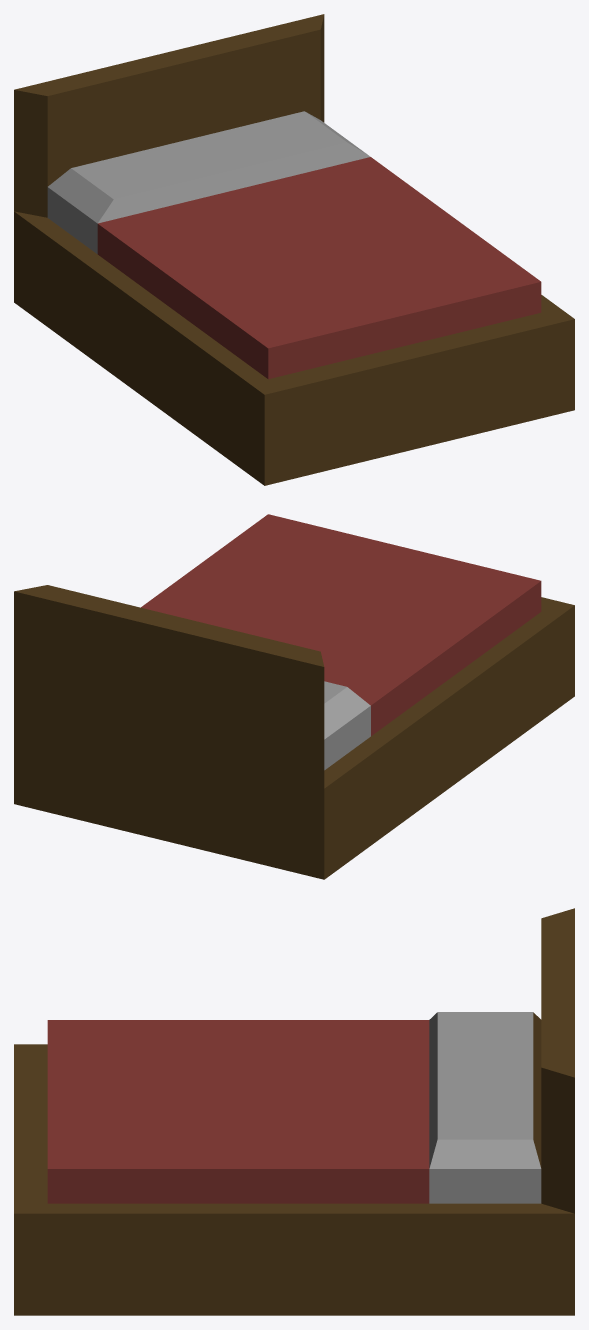
Rendered from Bed.fbx.
The picture shows the model from 3 angles, top to bottom: view 1: azimuth 30°, elevation 25°; view 2: azimuth 150°, elevation 25°; view 3: azimuth 270°, elevation 25°; orthographic projection. The views are drawn at different scales.
Visible parts, largest first — view 1: Cube; view 2: Cube; view 3: Cube.
Part boxes in pixels (x1=…): Cube: x1=14, y1=14, x2=574, y2=485; Cube: x1=14, y1=514, x2=574, y2=879; Cube: x1=14, y1=908, x2=574, y2=1315.
Size of the model in its own units: 143 by 93.66 by 200.
